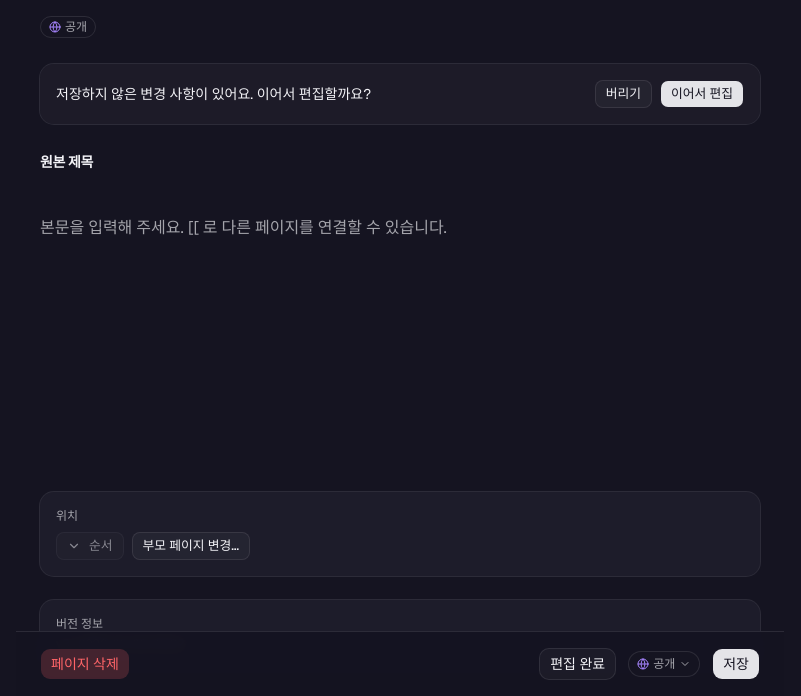
Test: PageEditView — localStorage draft › '이어서 편집' 을 누르면 draft 가 폼에 복원된다
Expected: the field showing "원본 제목" is shown, [40,148,760,176]
Click the button "이어서 편집". click: (702, 94)
box: [660,80,744,108]
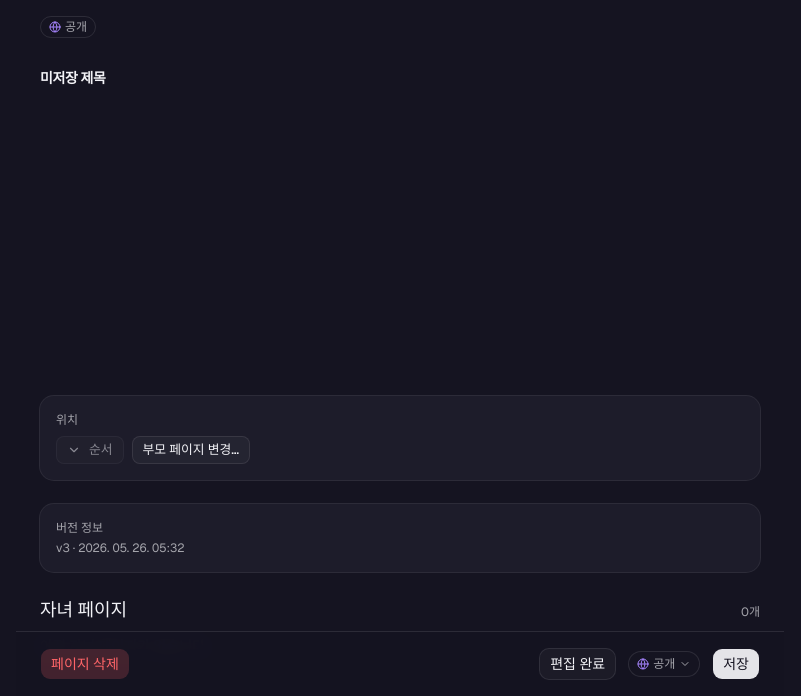
Expected: the field showing "미저장 제목" is shown, [40,64,760,92]
Expected: the text "저장하지 않은 변경 사항이 있어요" is gone
